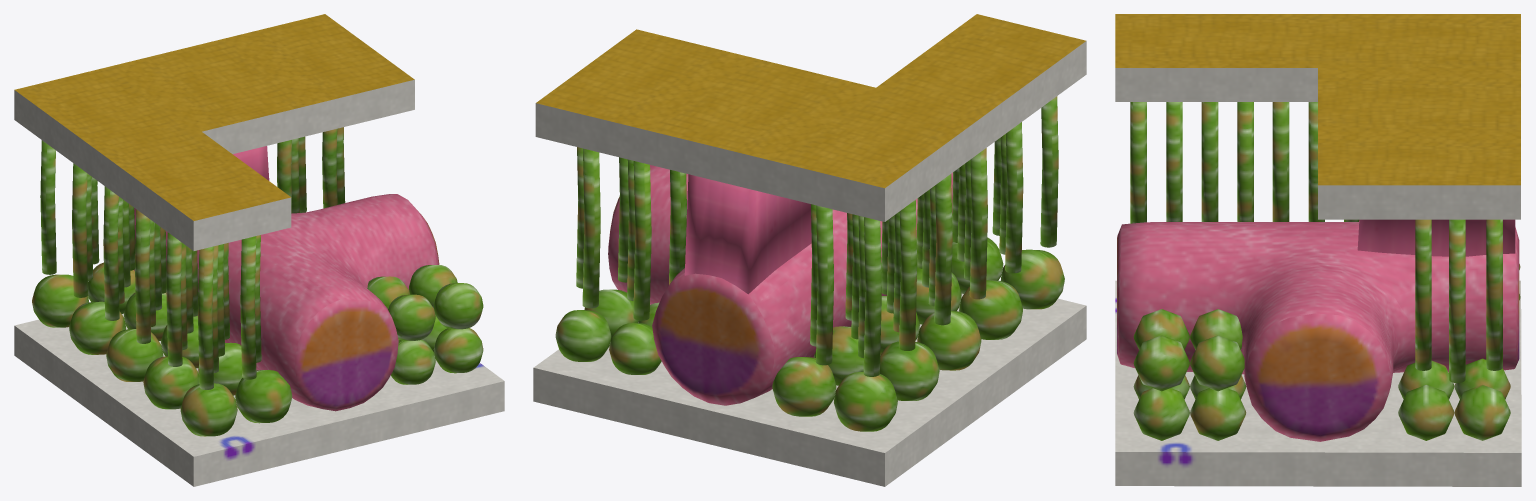
File: jaringanParenkim.fbx
3 views of the same model, side by side, from view 1: azimuth 30°, elevation 25°; view 2: azimuth 150°, elevation 25°; view 3: azimuth 270°, elevation 25° (orthographic). The views are drawn at different scales.
Visible parts, largest first — view 1: Jaringanparenkim; view 2: Jaringanparenkim; view 3: Jaringanparenkim.
Boxes of the visible parts, box(x1,y1,x2,y2) form: Jaringanparenkim: box(14, 14, 504, 486); Jaringanparenkim: box(533, 14, 1086, 486); Jaringanparenkim: box(1115, 14, 1521, 486).
Bounding box in the file's own units: 201 × 163 × 200.
Materials: 1 (1 with a texture image).
